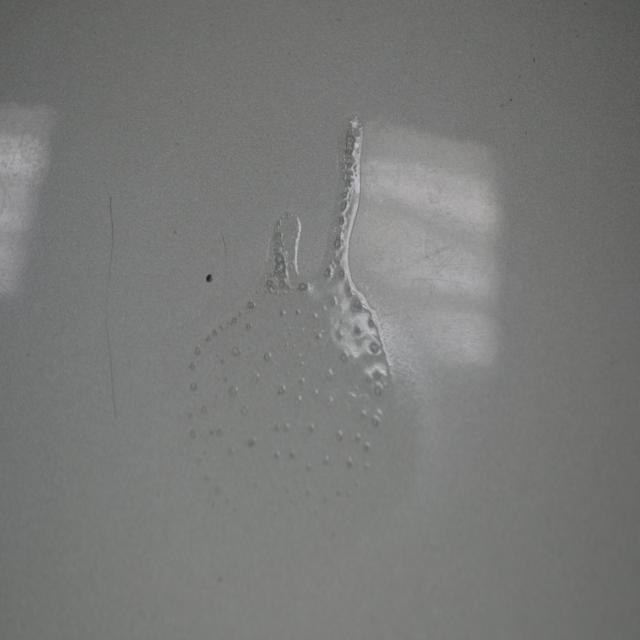dirt: (204, 268, 215, 286)
runs: (173, 117, 400, 545)
scratch: (101, 190, 121, 425)
